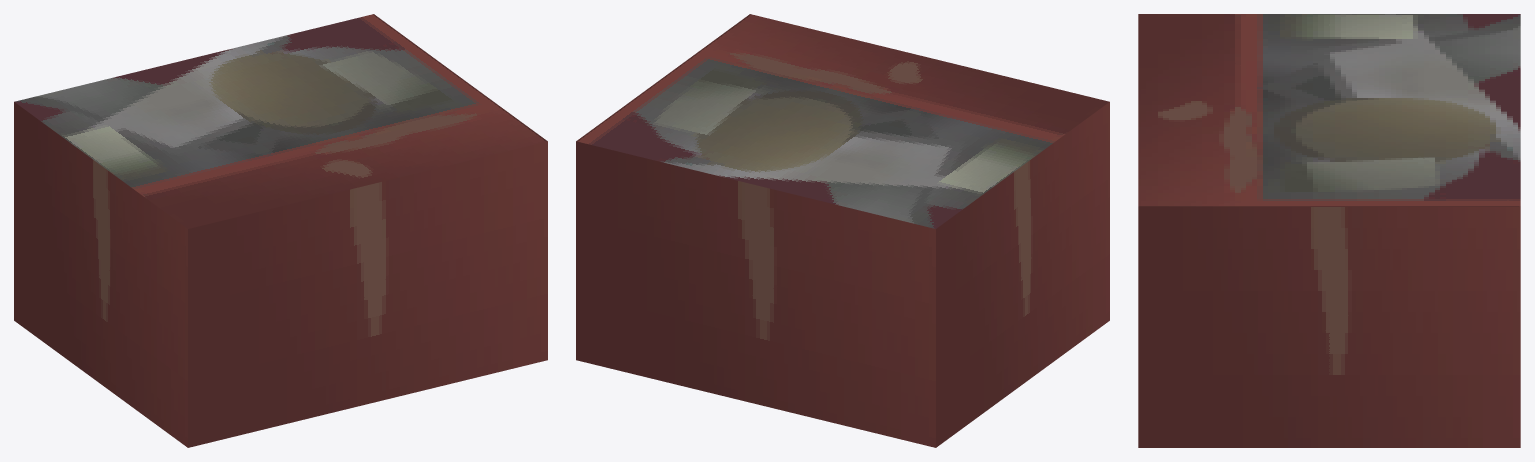
The model's file is Building_AncientBox_ComponentIndustrial.glb.
3 views of the same model, side by side, from view 1: azimuth 30°, elevation 25°; view 2: azimuth 150°, elevation 25°; view 3: azimuth 270°, elevation 25° (orthographic). The views are drawn at different scales.
Parts seen in each view (by area): view 1: AncientBox_ComponentIndustrial; view 2: AncientBox_ComponentIndustrial; view 3: AncientBox_ComponentIndustrial.
Part boxes in pixels (x1,y1,x2,y2): AncientBox_ComponentIndustrial: [14, 14, 547, 447]; AncientBox_ComponentIndustrial: [576, 14, 1109, 447]; AncientBox_ComponentIndustrial: [1138, 14, 1520, 447].
Size of the model in its own units: 0.86 by 0.5 by 0.72.
1 material, 1 textured.
